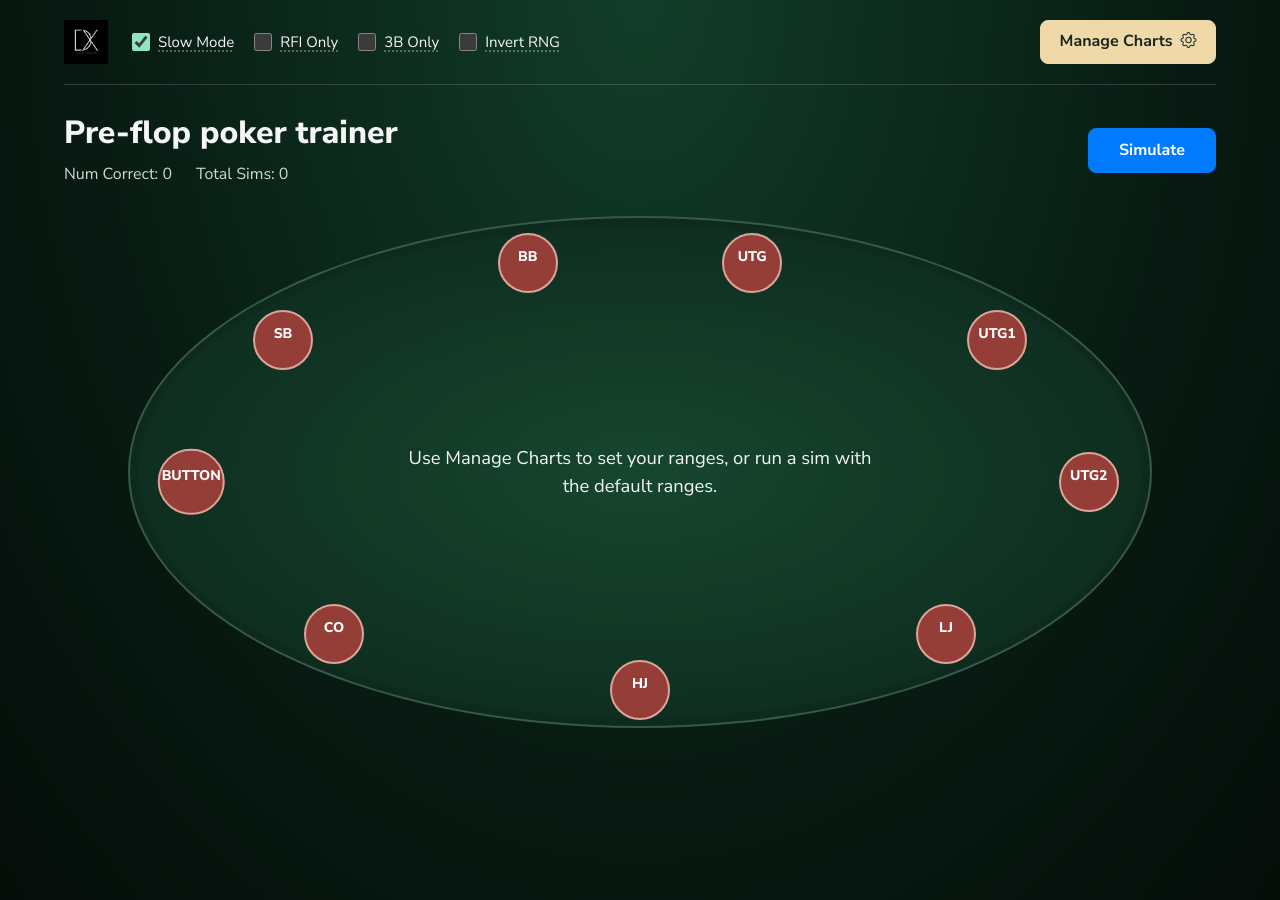
the trainer retains its controls, initial counters, and selected chart
The width and height of the screenshot is (1280, 900).
Check: the button "Simulate" is shown, box [1088,128,1216,173]
Check: the checkbox labelled "Slow Mode" is checked, box [132,33,150,51]
What coordinates should you click on to do the following:
click the button "Manage Charts"
I would click on:
 (1128, 42)
Its box is [1040,20,1216,64].
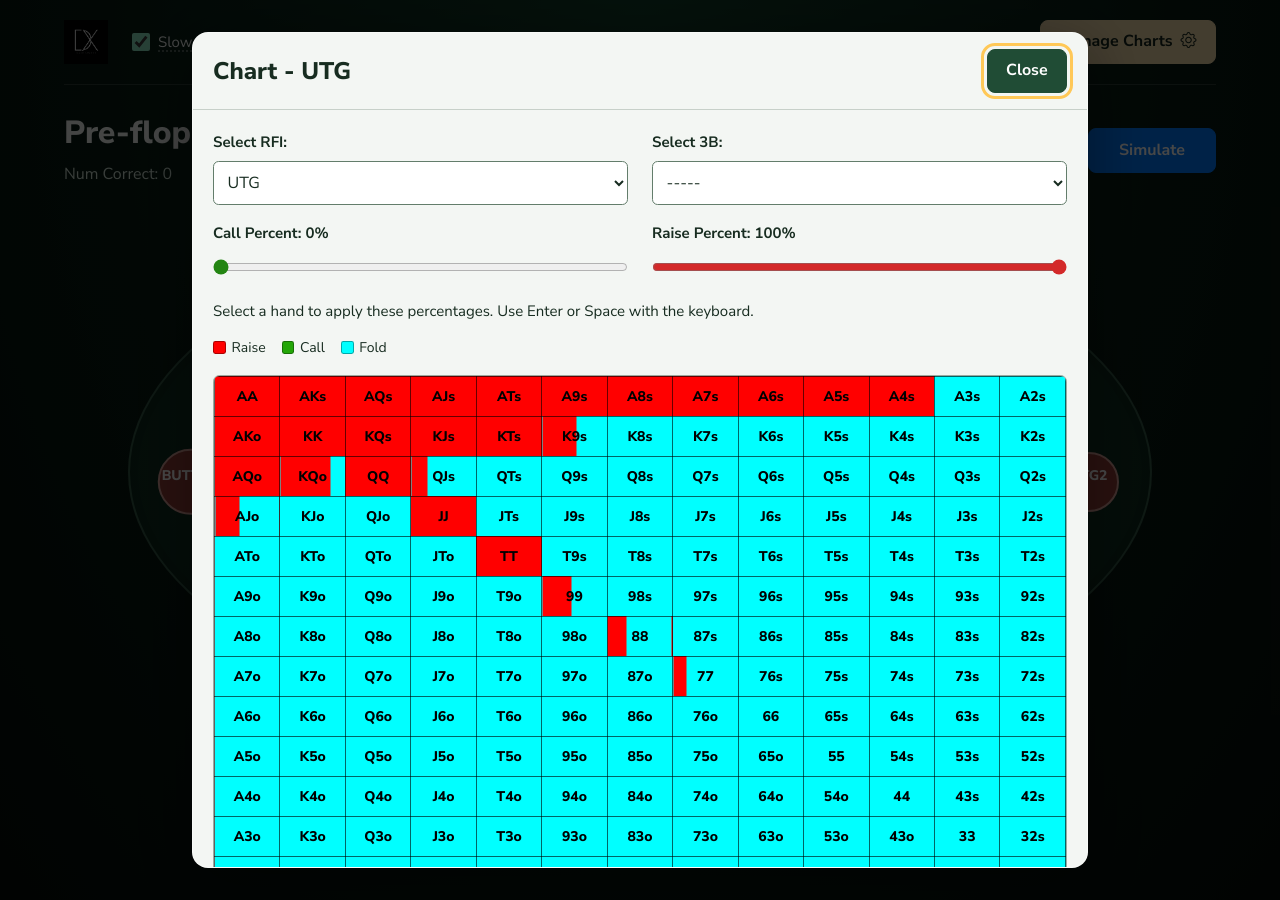
Check: the number of cells is 169
Check: the cell "AA" is shown, box [214,376,280,416]
Check: the cell "AKs" is shown, box [280,376,346,416]
